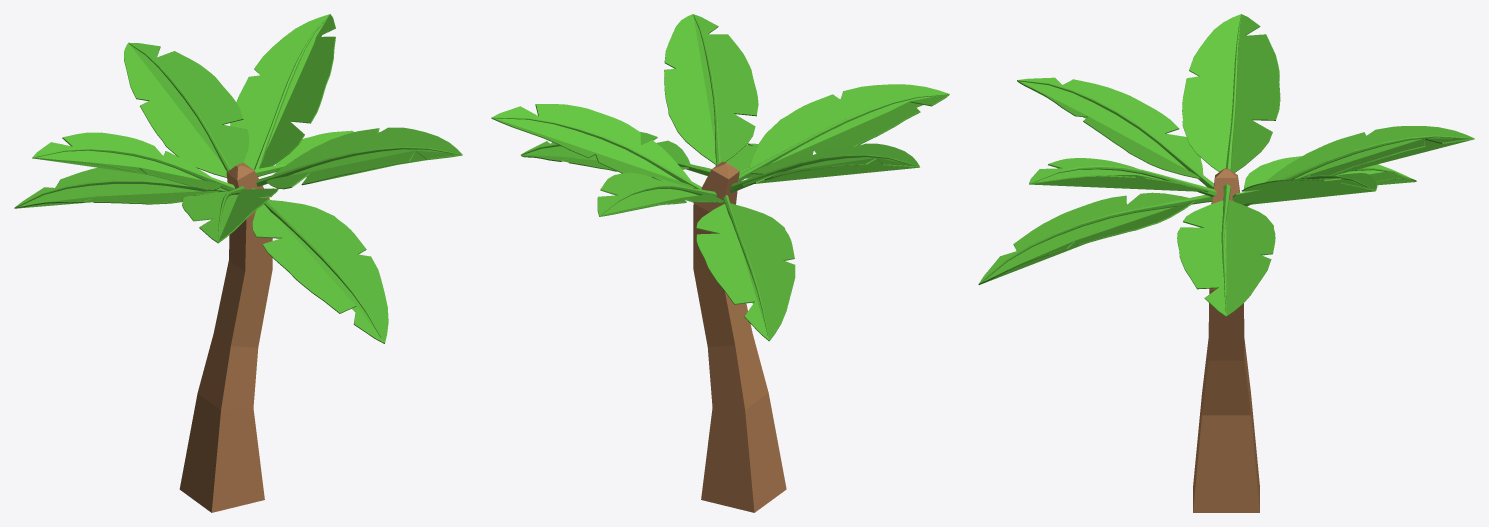
Rendered from BANANEIRA #2.fbx.
3 views of the same model, side by side, from view 1: azimuth 30°, elevation 25°; view 2: azimuth 150°, elevation 25°; view 3: azimuth 270°, elevation 25° (orthographic). The views are drawn at different scales.
Parts seen in each view (by area): view 1: Cube.001, Cylinder.001, Cylinder.003, Cylinder.005, Cylinder.006, Cylinder.002, Cylinder.007, Cylinder.004, Cylinder; view 2: Cube.001, Cylinder.006, Cylinder.007, Cylinder.004, Cylinder.005, Cylinder.002, Cylinder.001, Cylinder, Cylinder.003; view 3: Cylinder.002, Cube.001, Cylinder, Cylinder.004, Cylinder.003, Cylinder.001, Cylinder.006, Cylinder.005, Cylinder.007.
Boxes of the visible parts, x1,y1,x2,y2 form: Cube.001: (179, 162, 272, 512); Cylinder.001: (124, 42, 248, 177); Cylinder.003: (251, 188, 388, 343); Cylinder.005: (230, 14, 335, 169); Cylinder.006: (256, 127, 462, 189); Cylinder.002: (32, 132, 235, 191); Cylinder.007: (14, 167, 227, 208); Cylinder.004: (182, 186, 278, 243); Cylinder: (254, 130, 424, 176); Cube.001: (693, 161, 786, 512); Cylinder.006: (664, 14, 758, 165); Cylinder.007: (696, 195, 795, 341); Cylinder.004: (738, 84, 949, 181); Cylinder.005: (491, 104, 701, 189); Cylinder.002: (730, 143, 919, 193); Cylinder.001: (597, 172, 724, 216); Cylinder: (521, 132, 711, 175); Cylinder.003: (725, 143, 760, 178); Cylinder.002: (1182, 14, 1280, 172); Cube.001: (1193, 168, 1259, 512); Cylinder: (1177, 184, 1275, 316); Cylinder.004: (1017, 77, 1213, 188); Cylinder.003: (978, 192, 1212, 284); Cylinder.001: (1265, 126, 1474, 182); Cylinder.006: (1029, 158, 1216, 197); Cylinder.005: (1232, 173, 1377, 206); Cylinder.007: (1244, 156, 1416, 191).
Bounding box in the file's own units: 59.79 × 54.39 × 60.79.
